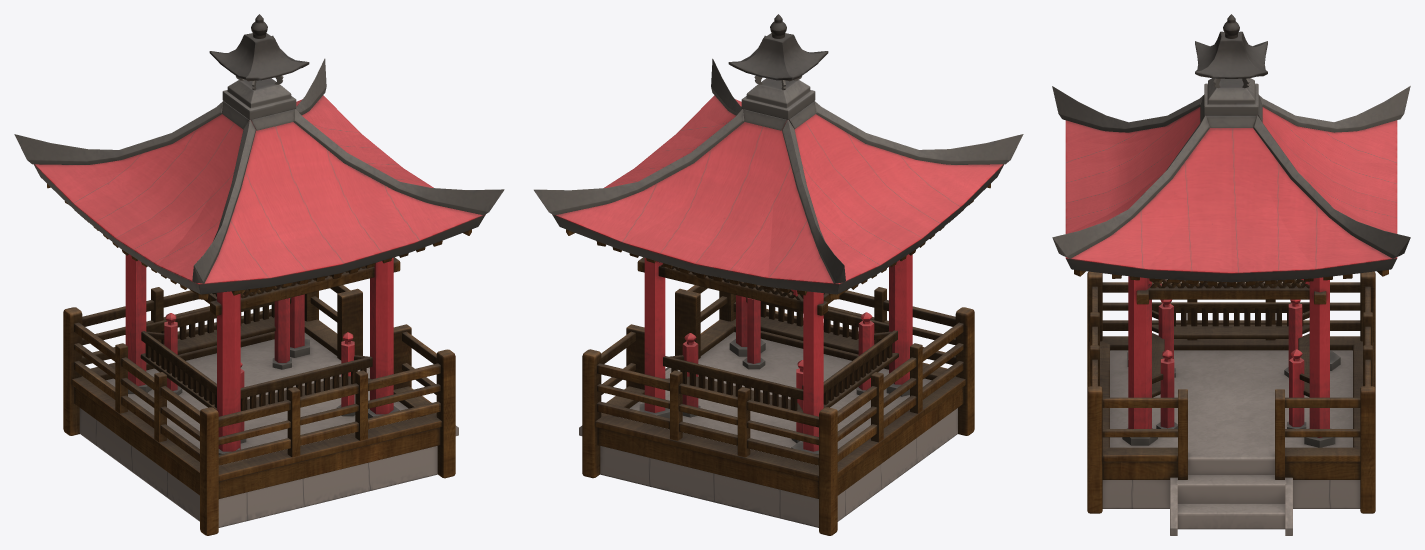
Rendered from pavilion_3.fbx.
3 views of the same model, side by side, from view 1: azimuth 30°, elevation 25°; view 2: azimuth 150°, elevation 25°; view 3: azimuth 270°, elevation 25° (orthographic).
Parts seen in each view (by area): view 1: LiangTing_3; view 2: LiangTing_3; view 3: LiangTing_3.
Part boxes in pixels (x1,y1,x2,y2): LiangTing_3: (14, 14, 504, 535); LiangTing_3: (534, 14, 1023, 535); LiangTing_3: (1052, 14, 1410, 535).
Size of the model in its own units: 64.46 by 83.6 by 61.8.
